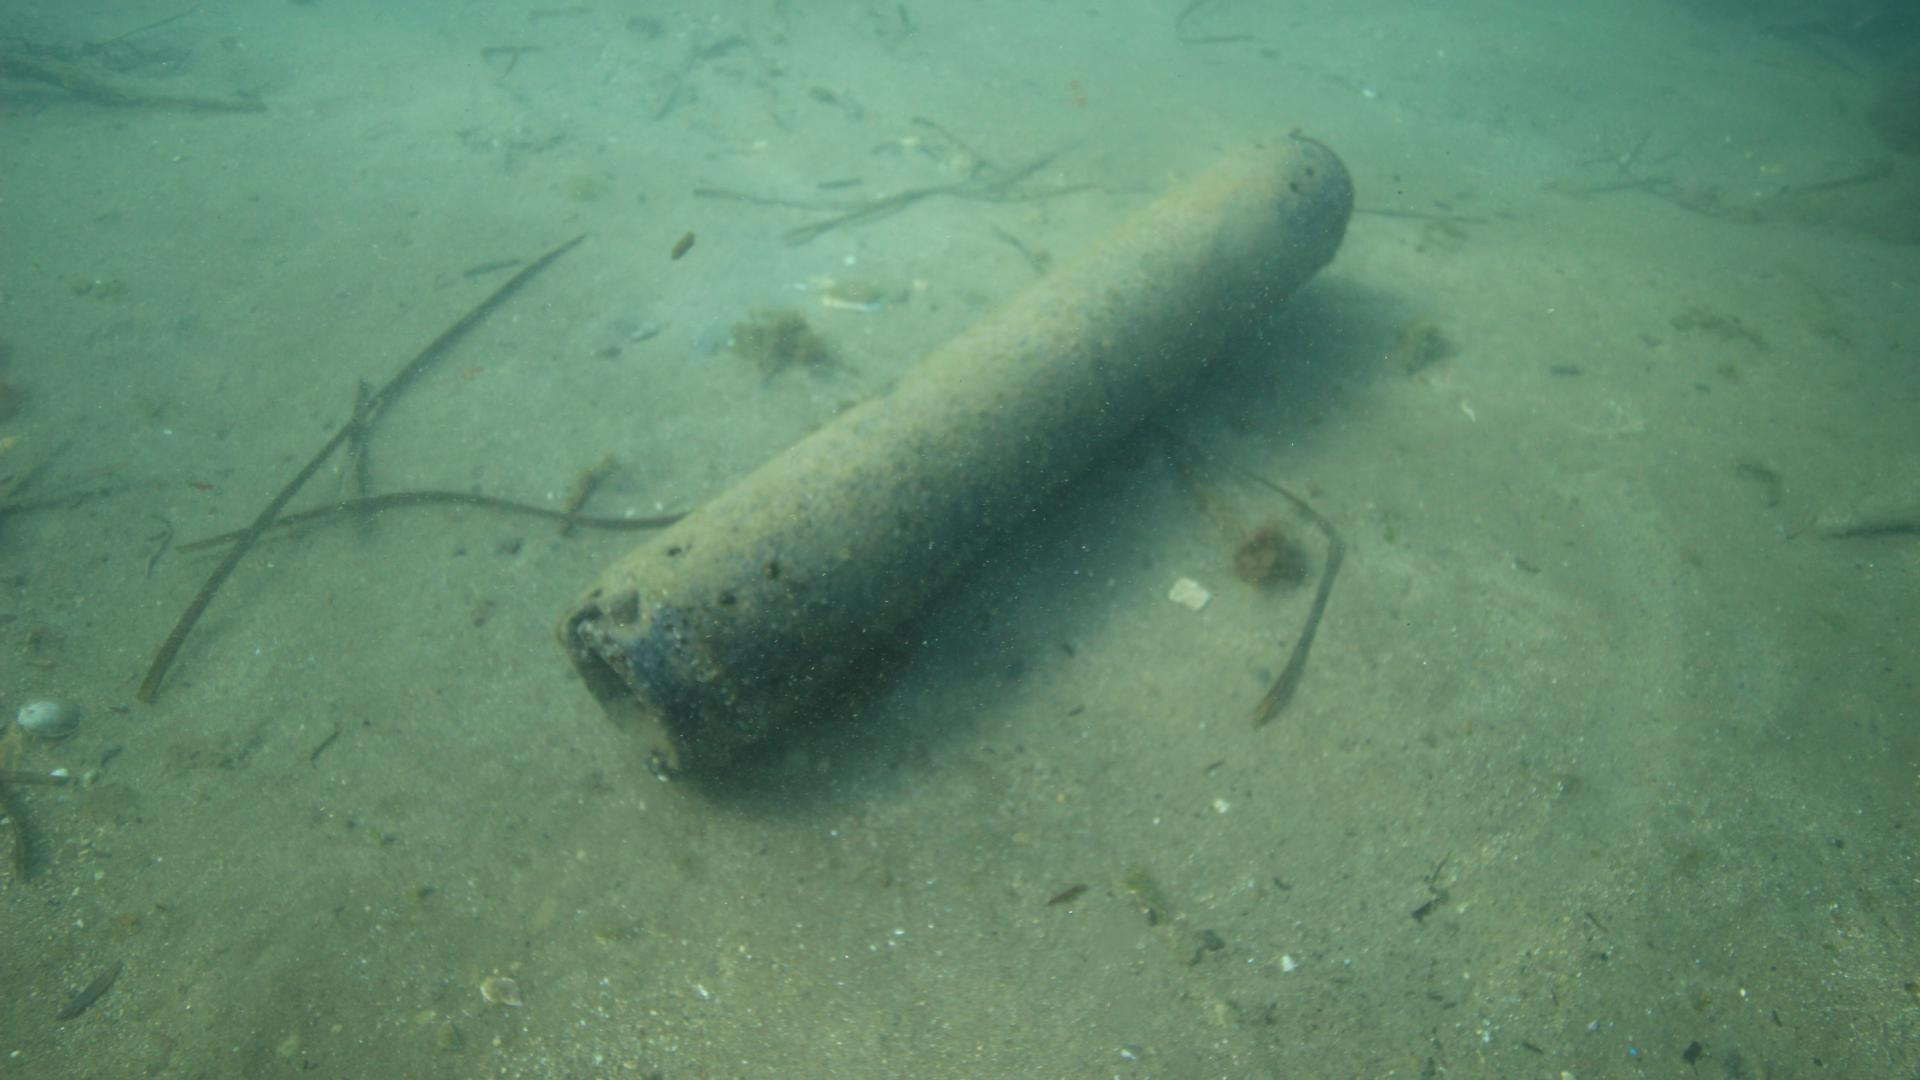eel fish trap: (559, 131, 1356, 779)
